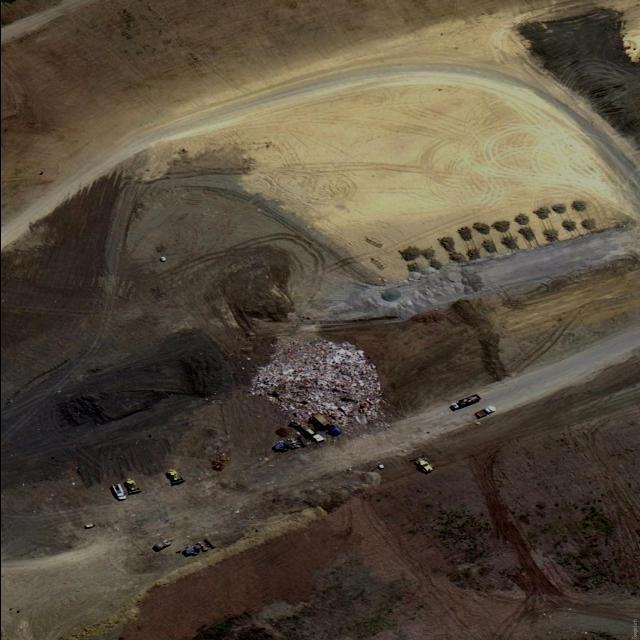dump_site: (239, 329, 398, 445)
